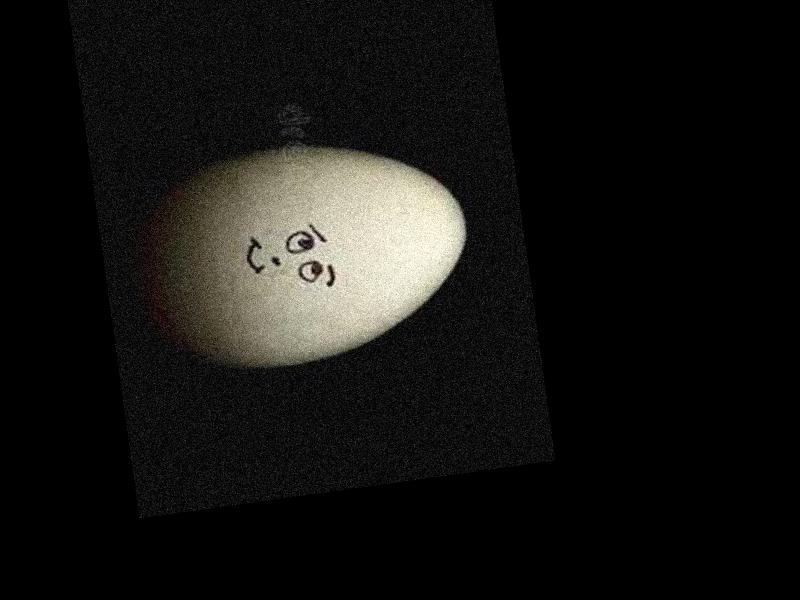Eggs: (134, 125, 482, 381)
